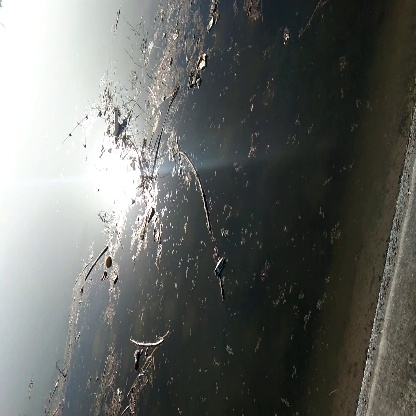milk-box: (212, 252, 229, 279)
